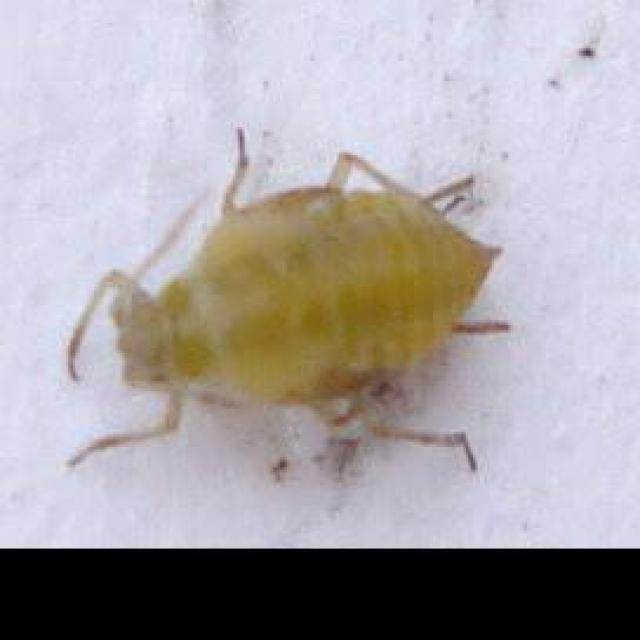aphid: (45, 114, 558, 521)
